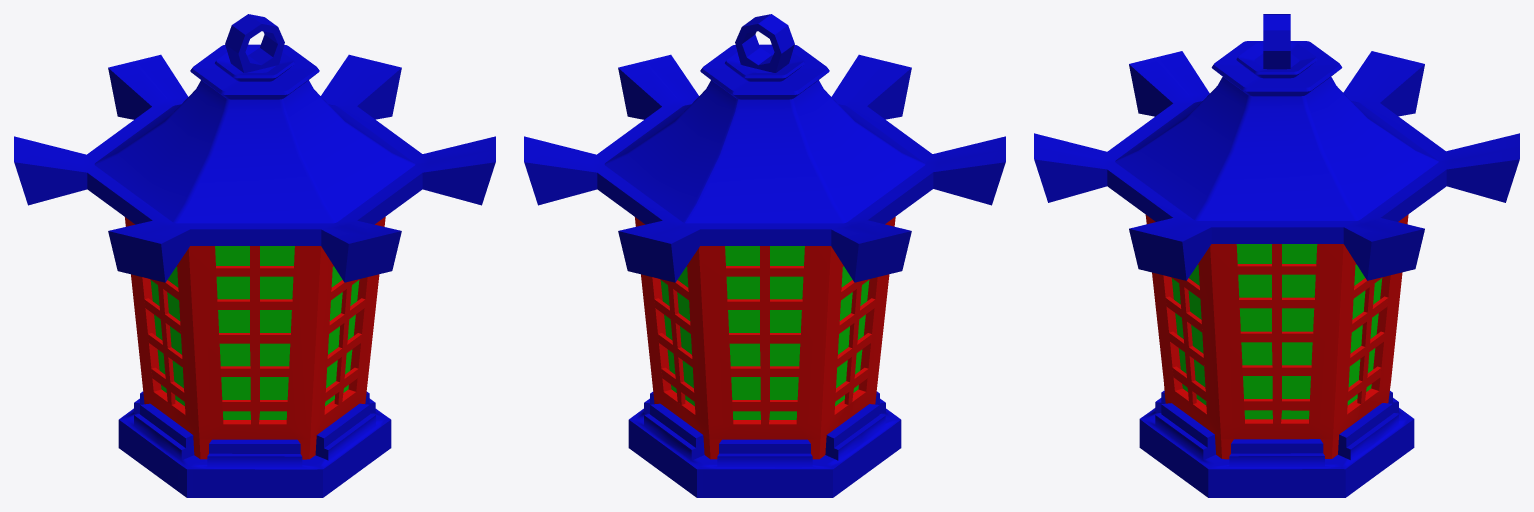
Rendered from SM_Lantern.fbx.
3 renders of one model, left to right at view 1: azimuth 30°, elevation 25°; view 2: azimuth 150°, elevation 25°; view 3: azimuth 270°, elevation 25°, orthographic.
Visible parts, largest first — view 1: lantern_geo; view 2: lantern_geo; view 3: lantern_geo.
Boxes of the visible parts, x1=… form: lantern_geo: x1=14, y1=14, x2=495, y2=497; lantern_geo: x1=524, y1=14, x2=1005, y2=497; lantern_geo: x1=1034, y1=14, x2=1519, y2=497.
Size of the model in its own units: 148 by 157 by 159.
